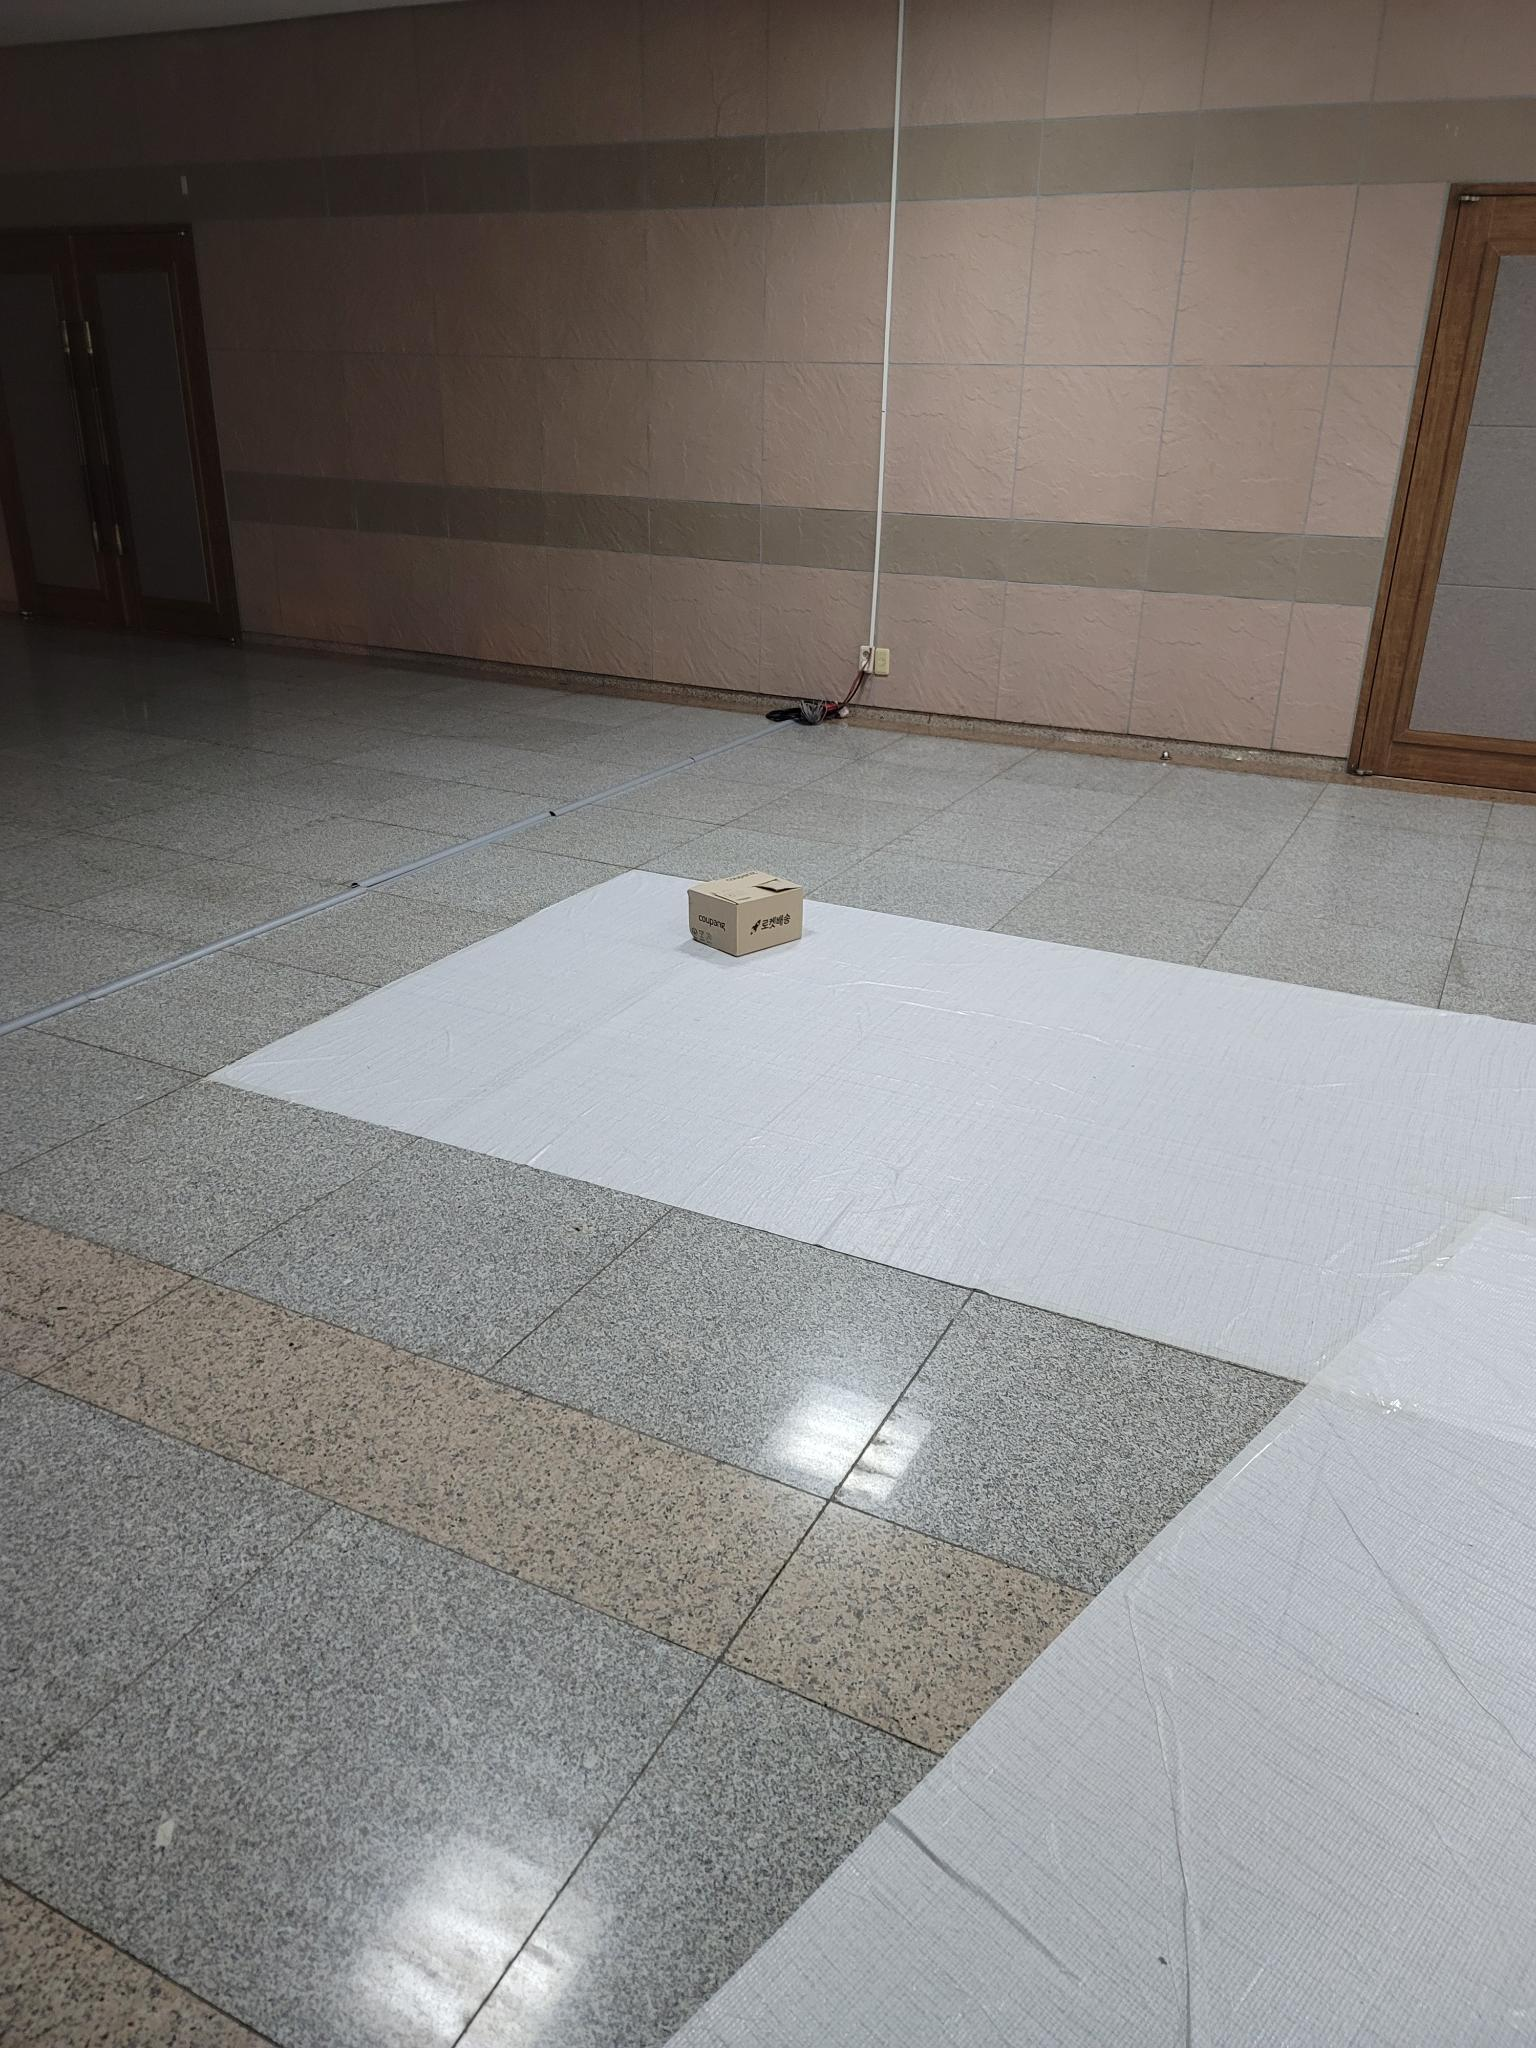Box: (686, 874, 815, 971)
